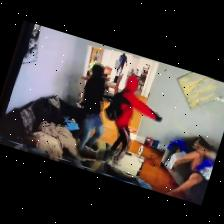person: (108, 77, 162, 165), (167, 141, 216, 196), (78, 65, 106, 152), (117, 54, 127, 75)
